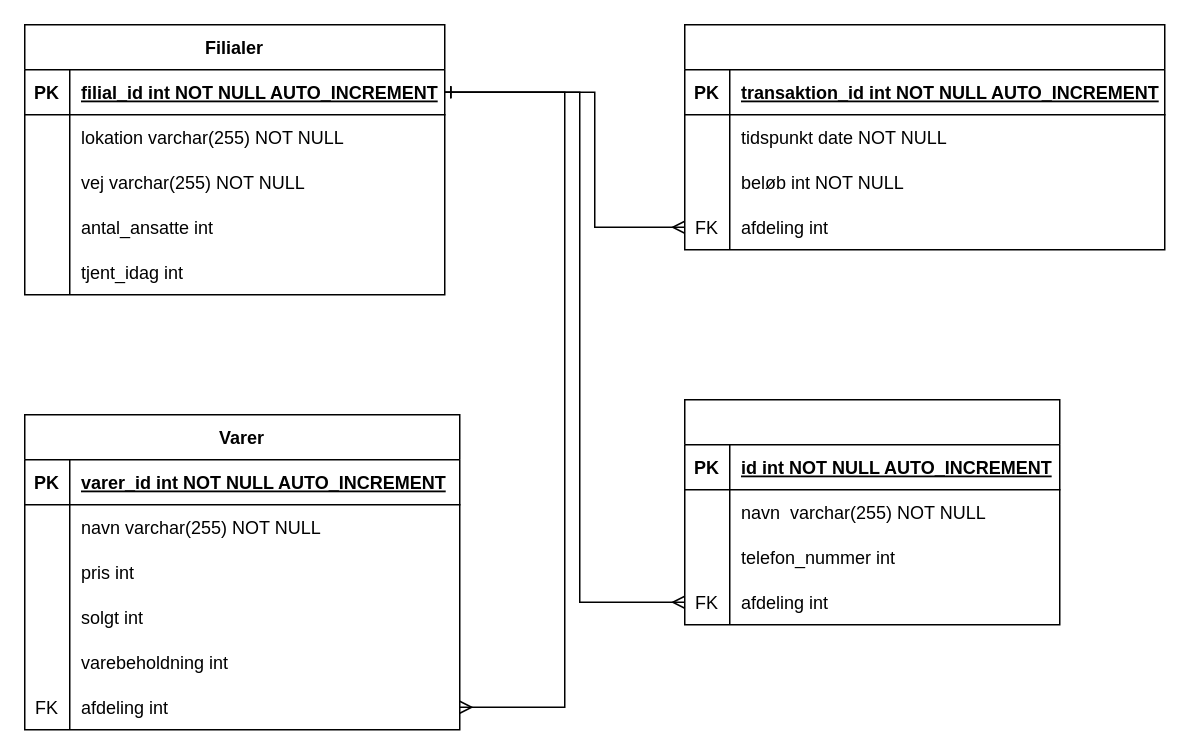
This 1190x755 diagram has some shape labels left out. Each missing label, with the box of its shape:
Ansatte: (683, 398, 1060, 625)
Transaktioner: (683, 23, 1165, 250)
